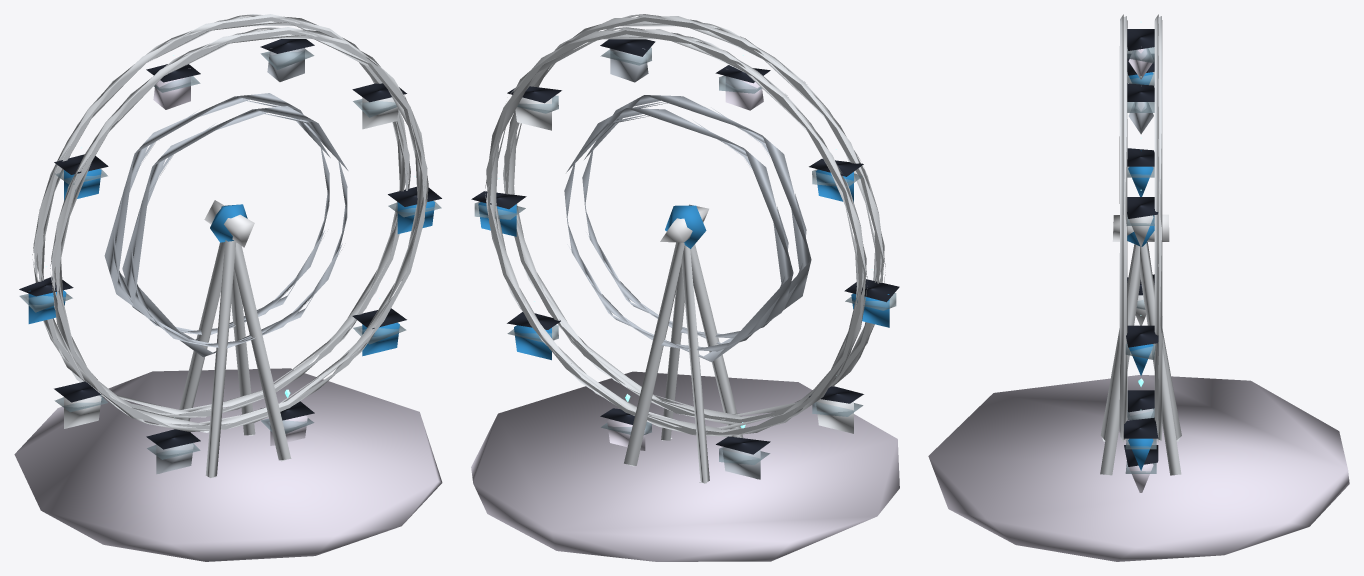
Rendered from lod_ferris_wheel_mini.glb.
3 renders of one model, left to right at view 1: azimuth 30°, elevation 25°; view 2: azimuth 150°, elevation 25°; view 3: azimuth 270°, elevation 25°, orthographic. The views are drawn at different scales.
Visible parts, largest first — view 1: ferris_wheel_mini; view 2: ferris_wheel_mini; view 3: ferris_wheel_mini.
Part boxes in pixels (box(x1,y1,x2,y2)): ferris_wheel_mini: box(14, 14, 442, 561); ferris_wheel_mini: box(471, 14, 899, 561); ferris_wheel_mini: box(928, 14, 1349, 561).
Bounding box in the file's own units: 6.69 × 6.95 × 6.03.
